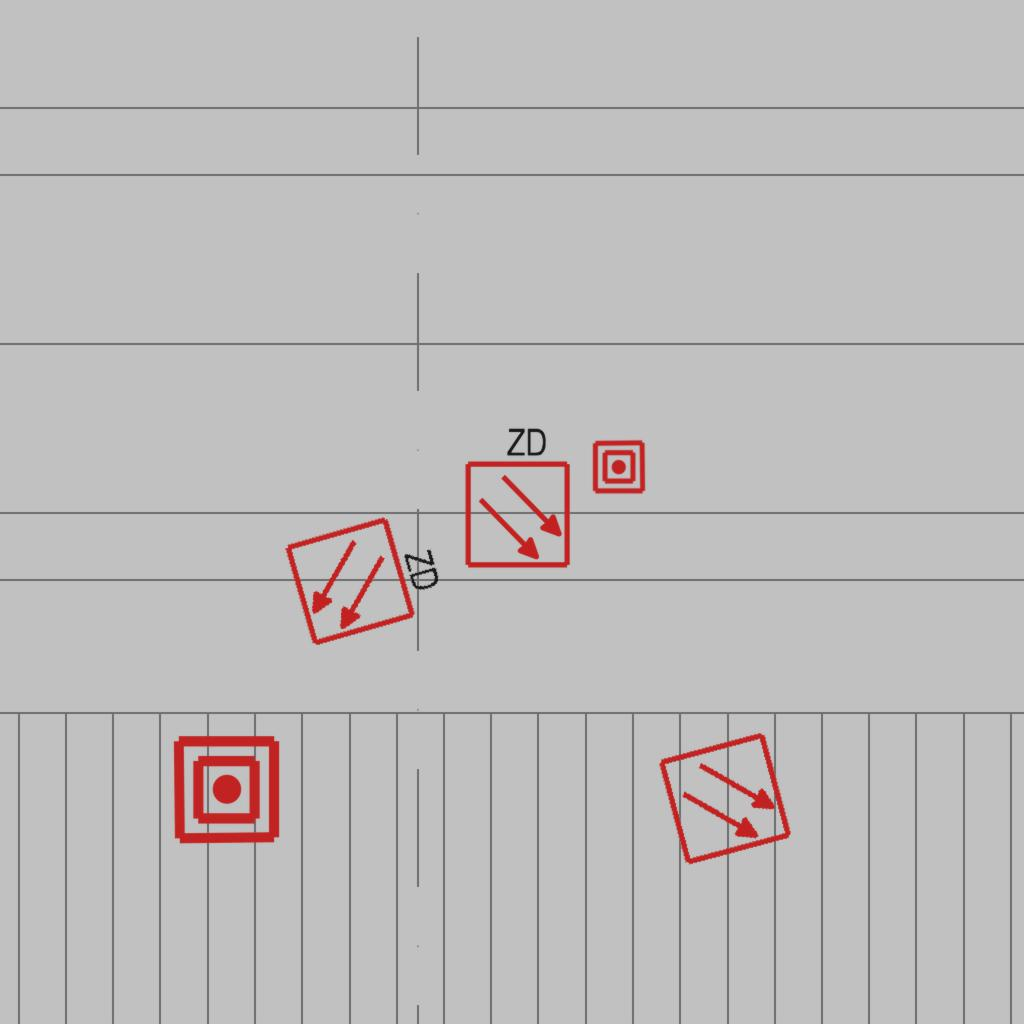NAM-Nichtautomatischer_Melder: (170, 733, 283, 846), (591, 439, 647, 495)
RMO_Rauchmelder_optischer: (656, 729, 795, 868)
ZD_Melder_in_Zwischendecke_mit_Revisionsoeffnung_mind_40_x_40_cm: (280, 499, 456, 650), (459, 421, 573, 570)
